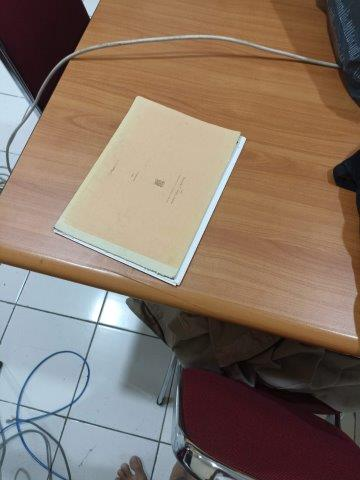kertas: (54, 95, 246, 285)
